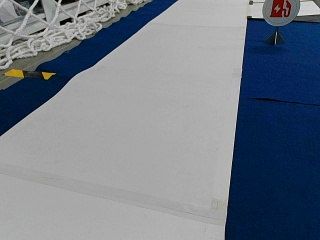battery: (261, 0, 300, 26)
